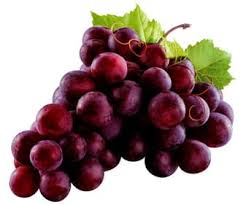Red Grapes: (10, 28, 227, 196)
